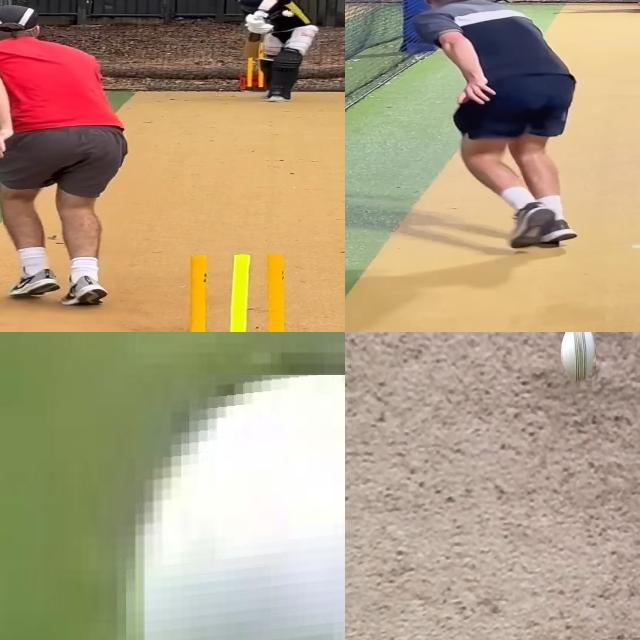Cricket ball: (123, 374, 345, 640), (559, 332, 596, 387), (281, 10, 294, 18)
Stumps: (170, 255, 299, 332)
